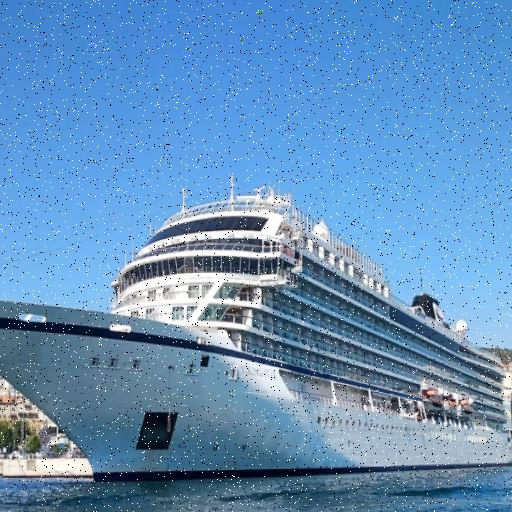cruises: (1, 173, 512, 486)
